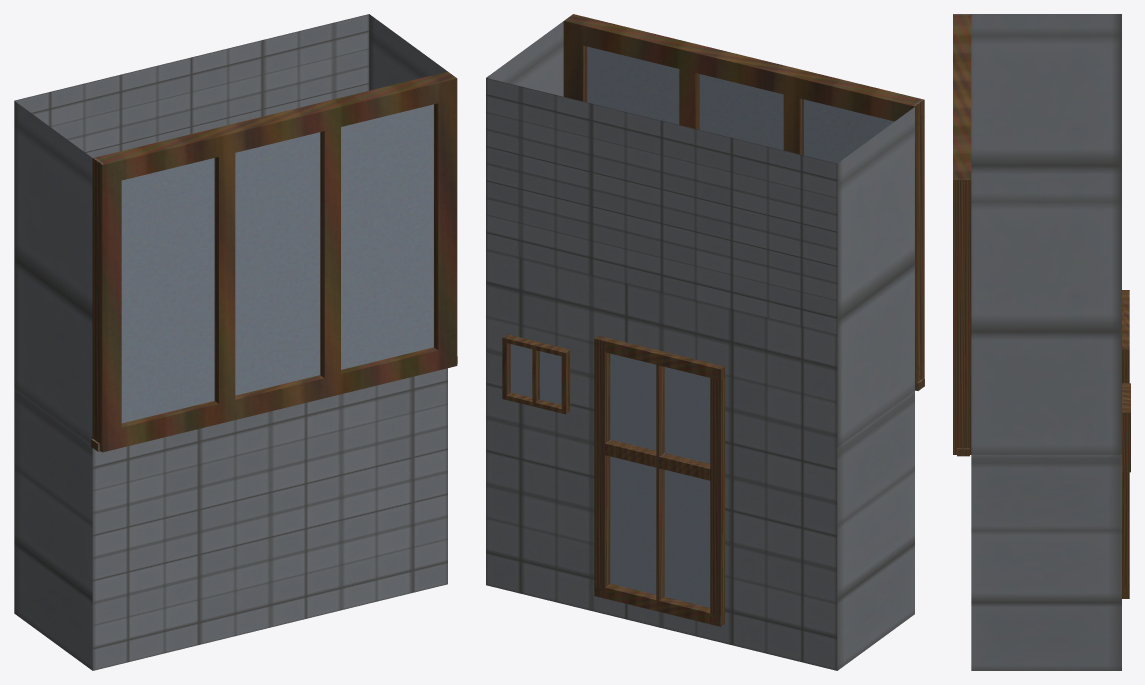
File: balcony.obj
The picture shows the model from 3 angles, left to right: view 1: azimuth 30°, elevation 25°; view 2: azimuth 150°, elevation 25°; view 3: azimuth 270°, elevation 25°; orthographic projection. The views are drawn at different scales.
Bounding box in the file's own units: 3.04 × 4.14 × 1.36.
